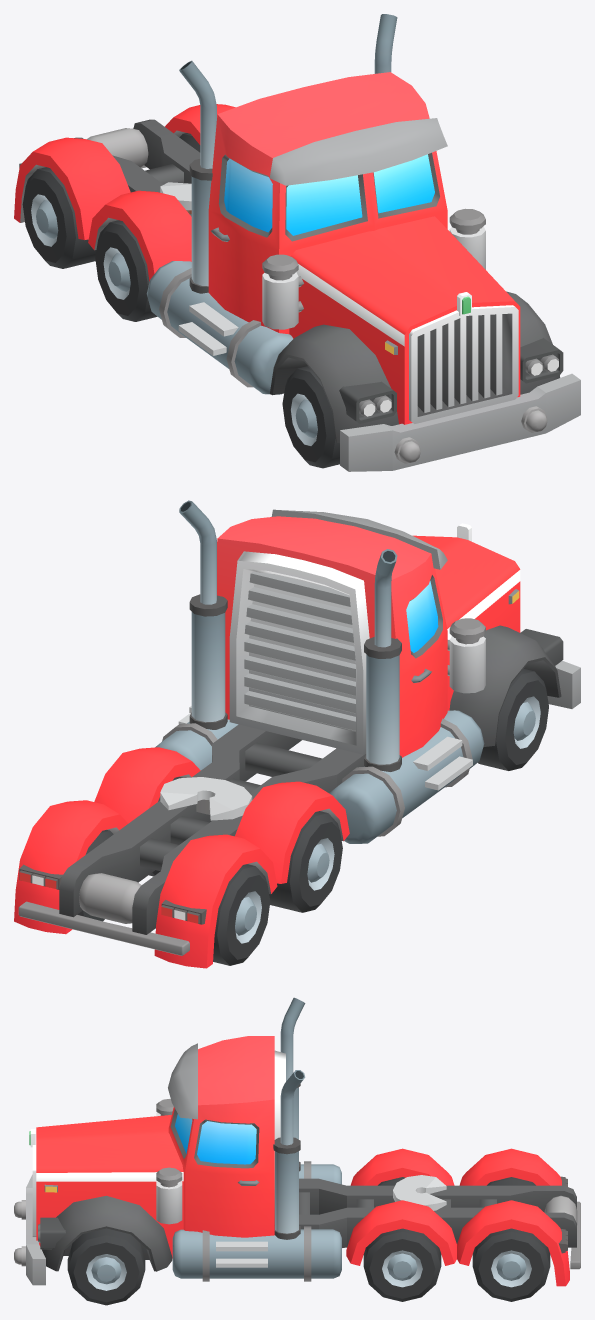
Rendered from truck.glb.
The picture shows the model from 3 angles, top to bottom: view 1: azimuth 30°, elevation 25°; view 2: azimuth 150°, elevation 25°; view 3: azimuth 270°, elevation 25°; orthographic projection. The views are drawn at different scales.
Parts seen in each view (by area): view 1: Truck_03, Wheel_261, Wheel_260, Wheel_259; view 2: Truck_03, Wheel_260, Wheel_259, Wheel_261; view 3: Truck_03, Wheel_262, Wheel_263, Wheel_264.
Boxes of the visible parts, x1,y1,x2,y2 form: Truck_03: (14, 14, 580, 471); Wheel_261: (22, 167, 96, 268); Wheel_260: (95, 220, 157, 321); Wheel_259: (282, 366, 339, 468); Truck_03: (14, 500, 580, 968); Wheel_260: (269, 811, 342, 912); Wheel_259: (478, 668, 548, 770); Wheel_261: (213, 864, 270, 965); Truck_03: (14, 997, 580, 1286); Wheel_262: (67, 1228, 145, 1305); Wheel_263: (363, 1228, 441, 1301); Wheel_264: (472, 1228, 550, 1301).
Bounding box in the file's own units: 2.99 × 3.4 × 7.51.
Materials: 2 (2 with a texture image).
